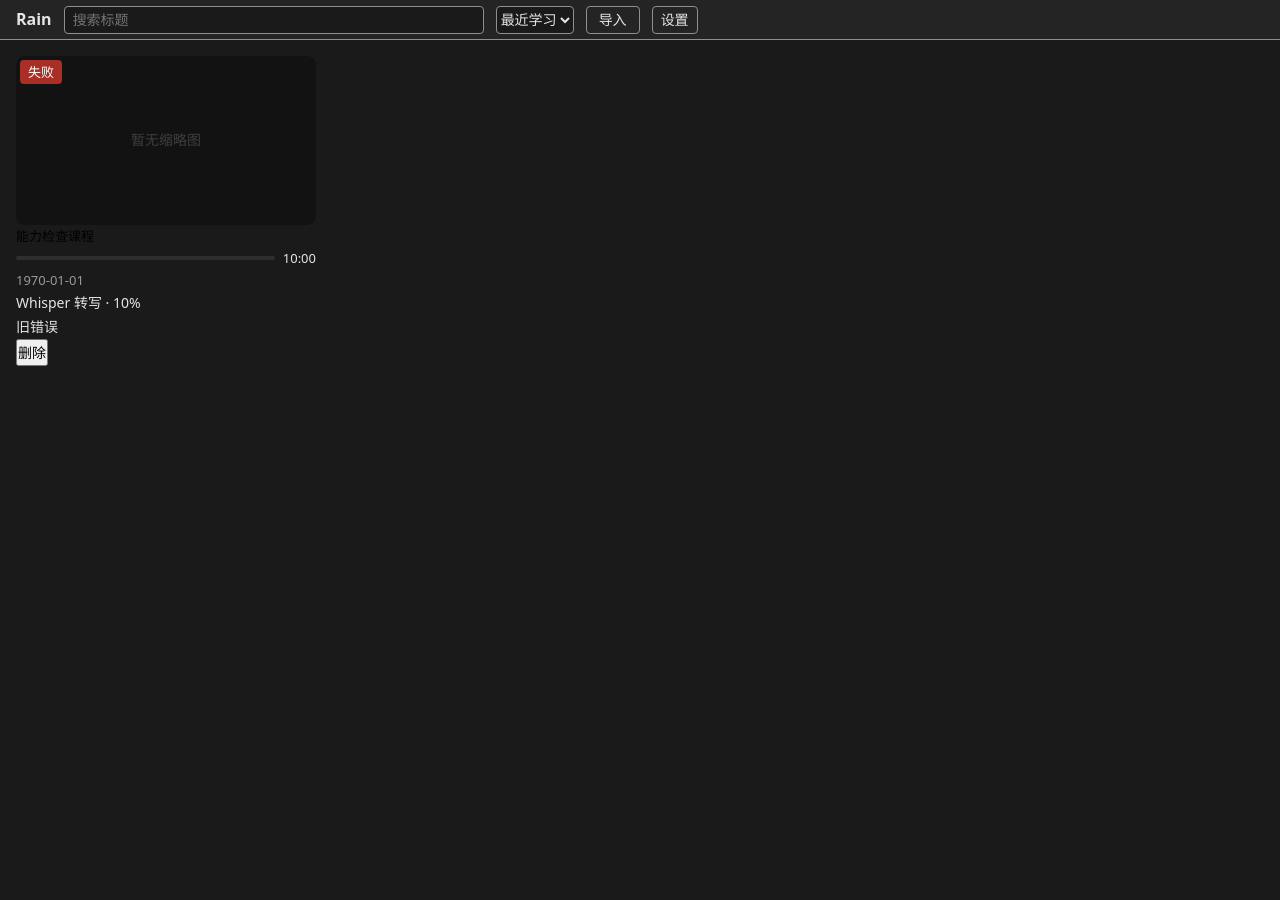
Scenario: AC-LV-19 and AC-LV-20 import task details › replaces a stale failure with the current explicit-retry preflight error
This screenshot has width=1280, height=900.
What coordinates should you click on to do the following:
click the text "能力检查课程"
I would click on:
 (55, 236)
Its box is [16,227,94,245].
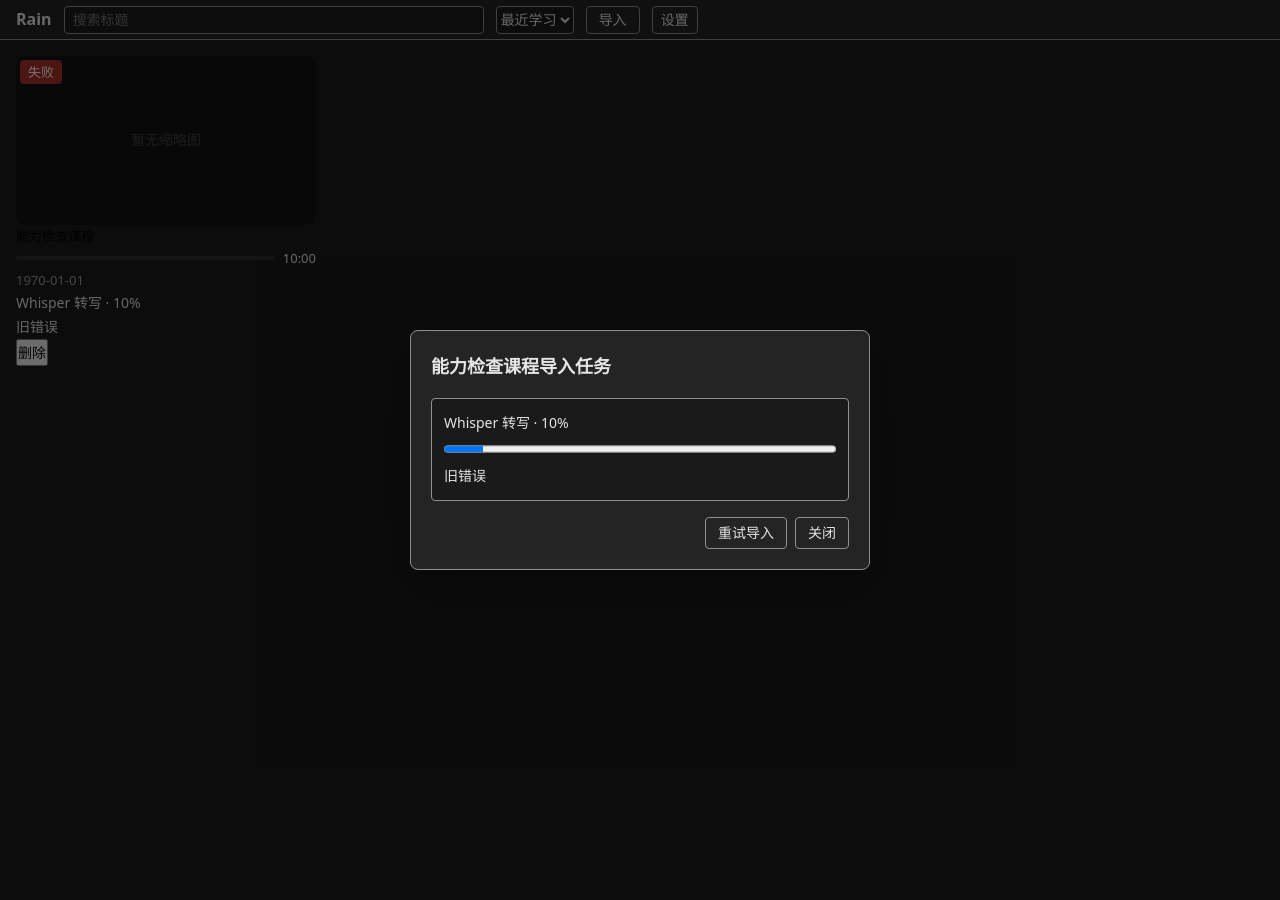
What coordinates should you click on to do the following:
click the button "重试导入"
I would click on:
 (746, 533)
Its box is [705,517,787,549].
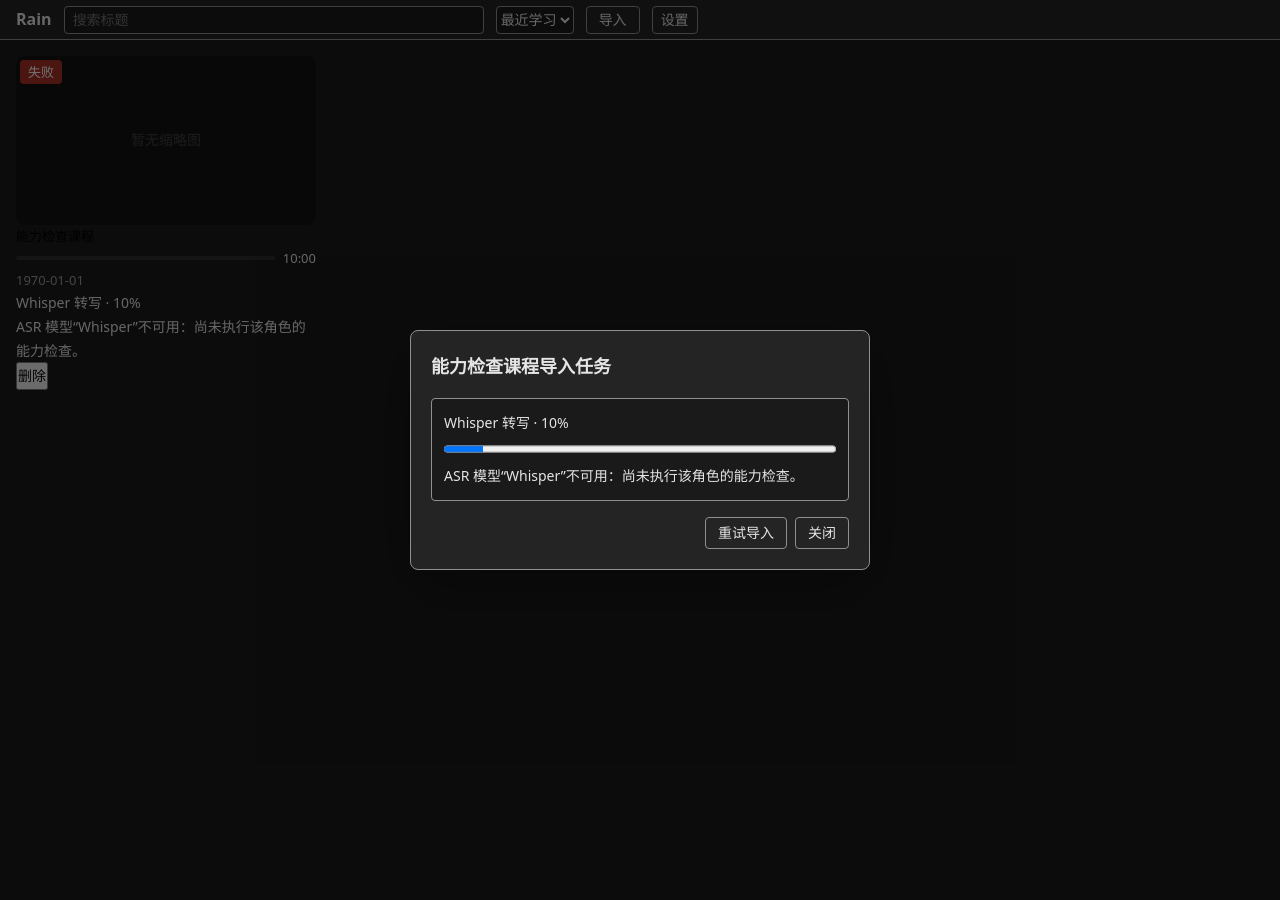
Expected: the message shows "ASR 模型“Whisper”不可用：", [444,466,804,485]
